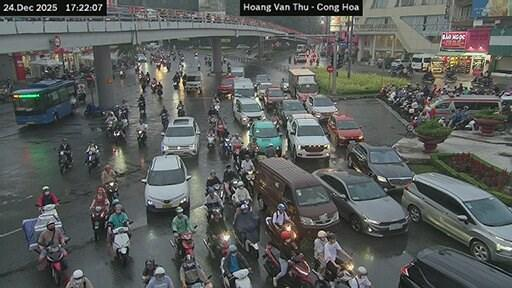motorbike: (310, 261, 354, 286), (278, 255, 312, 287), (233, 214, 258, 257), (265, 216, 300, 243), (44, 244, 63, 284), (202, 233, 230, 257), (112, 226, 128, 265), (90, 206, 108, 239), (262, 244, 280, 275), (169, 233, 192, 257), (231, 270, 252, 286), (220, 256, 230, 287), (204, 202, 221, 220), (105, 180, 118, 202), (58, 151, 70, 172), (86, 151, 98, 172), (227, 180, 240, 198), (83, 103, 102, 115), (38, 203, 57, 215), (220, 136, 230, 157), (231, 142, 242, 161), (112, 126, 124, 142), (211, 184, 224, 198), (246, 172, 253, 196), (120, 106, 128, 121), (160, 112, 167, 129), (105, 121, 112, 138), (137, 130, 144, 147), (77, 91, 86, 103), (207, 134, 214, 149), (422, 73, 434, 81), (443, 73, 455, 81), (208, 116, 217, 126), (138, 102, 144, 117), (272, 117, 278, 131), (176, 107, 184, 116), (118, 68, 124, 77), (172, 80, 178, 89), (150, 82, 156, 91), (214, 102, 218, 111), (156, 88, 162, 94), (156, 62, 160, 68), (236, 217, 240, 220)
